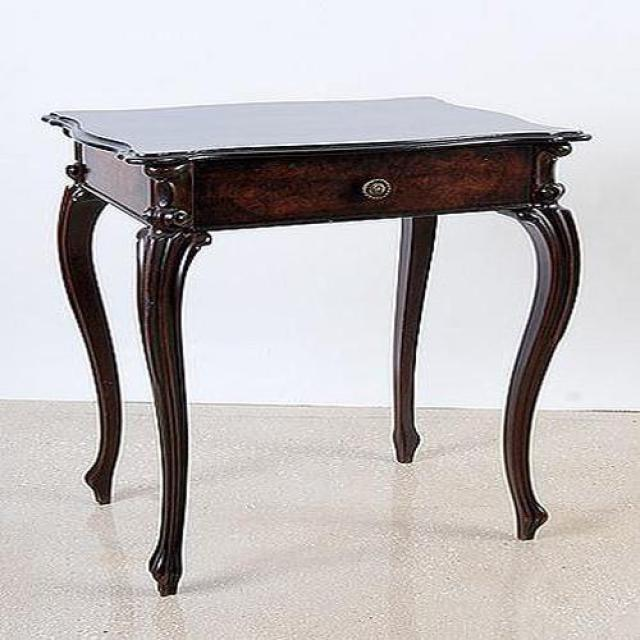table: (41, 97, 591, 599)
